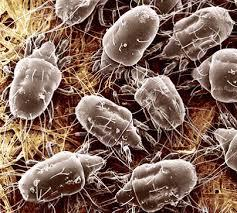Insects: (0, 32, 75, 134), (14, 138, 114, 206), (105, 146, 206, 213), (151, 1, 236, 66), (74, 90, 159, 152), (89, 6, 162, 76), (120, 64, 190, 134), (50, 0, 109, 36), (203, 113, 237, 174)
